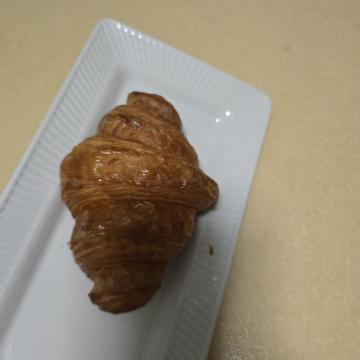croissant: (78, 138, 322, 320)
